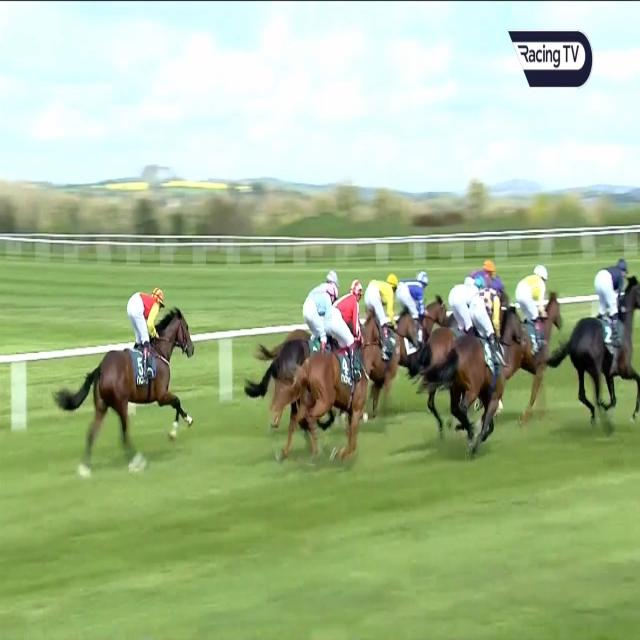horses-racing: (83, 286, 198, 462), (447, 278, 521, 463), (300, 281, 368, 481), (569, 260, 640, 418), (502, 259, 563, 407), (356, 272, 404, 400), (397, 270, 447, 339), (292, 282, 335, 351), (443, 272, 485, 334), (291, 268, 347, 296), (474, 252, 504, 286)
